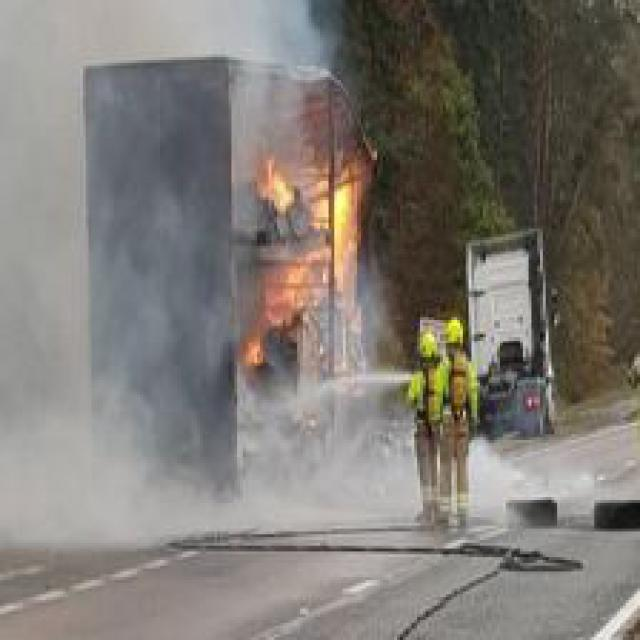fire: (232, 128, 374, 386)
